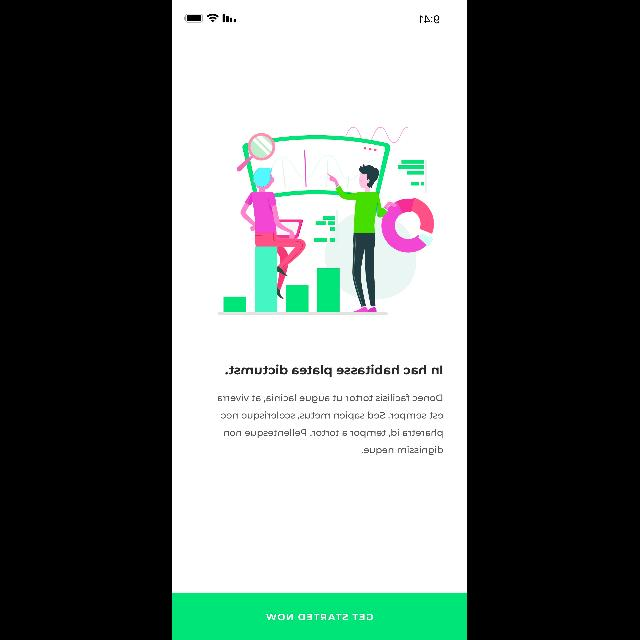image: (218, 127, 436, 316)
text: (218, 393, 444, 455), (226, 364, 444, 378)
textbutton: (172, 592, 468, 640)
uppertaskbar: (184, 14, 440, 24)
